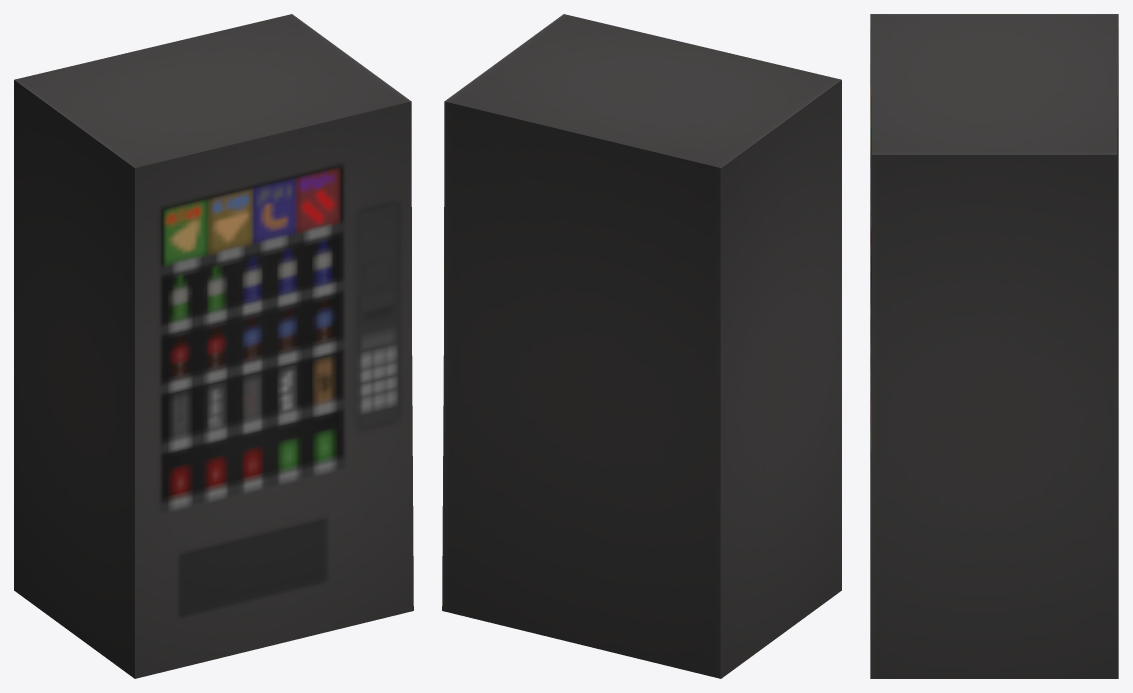
The model's file is VendingMachine.fbx.
The picture shows the model from 3 angles, left to right: view 1: azimuth 30°, elevation 25°; view 2: azimuth 150°, elevation 25°; view 3: azimuth 270°, elevation 25°; orthographic projection. The views are drawn at different scales.
Parts seen in each view (by area): view 1: Cube.030; view 2: Cube.030; view 3: Cube.030.
Boxes of the visible parts, x1=… form: Cube.030: x1=14, y1=14, x2=413, y2=678; Cube.030: x1=442, y1=14, x2=841, y2=678; Cube.030: x1=870, y1=14, x2=1118, y2=678.
Bounding box in the file's own units: 106 × 185 × 79.2.
1 material, 1 textured.
